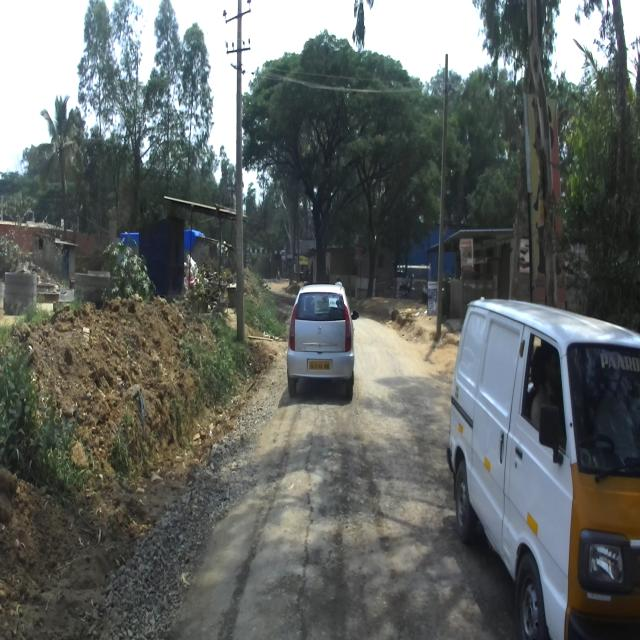car ahead at: (451, 301, 640, 640), (285, 281, 359, 402)
electric pole ahead at: (218, 2, 263, 338)
